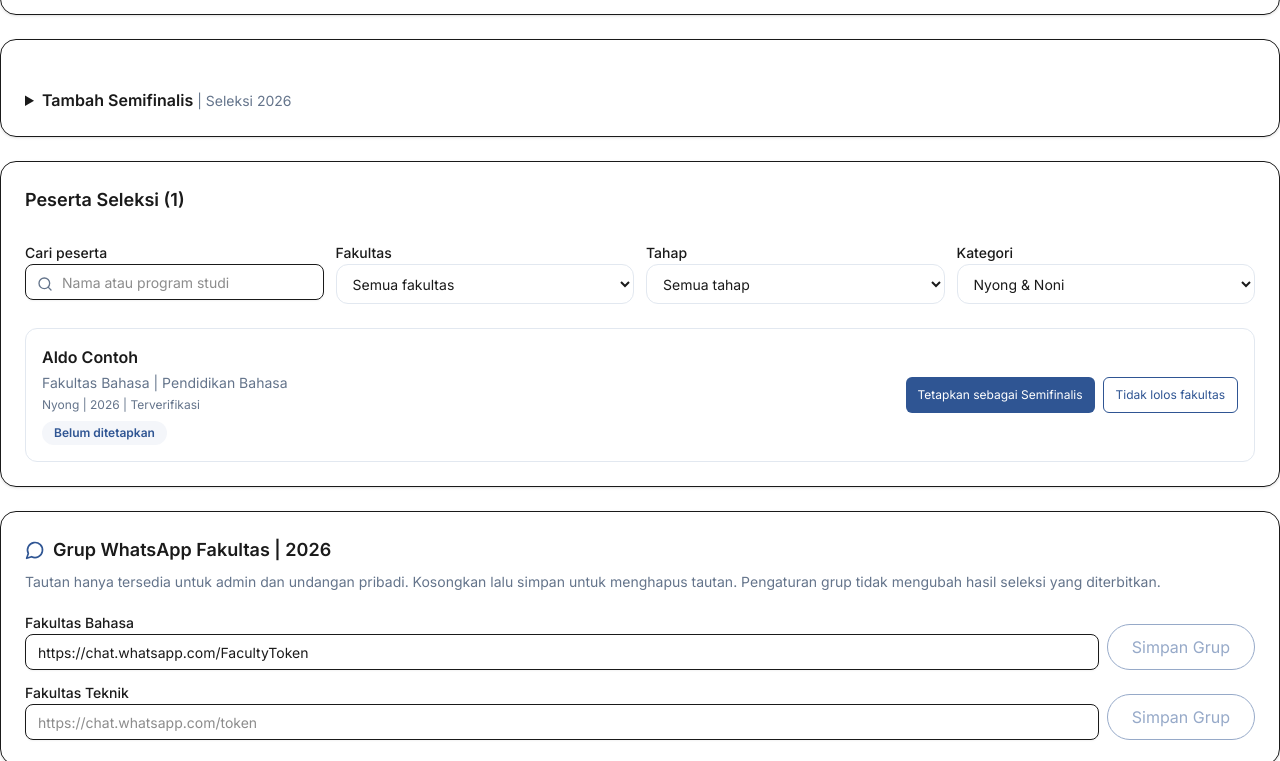
Test case: Selection admin › requires confirmation, saves stage, then offers a user-gesture WhatsApp link
(page scrolled)
Check: the button "Kirim Undangan WA" is not shown
Click the button "Tetapkan sebagai Semifinalis" at (1000, 395), box [906,377,1094,413]
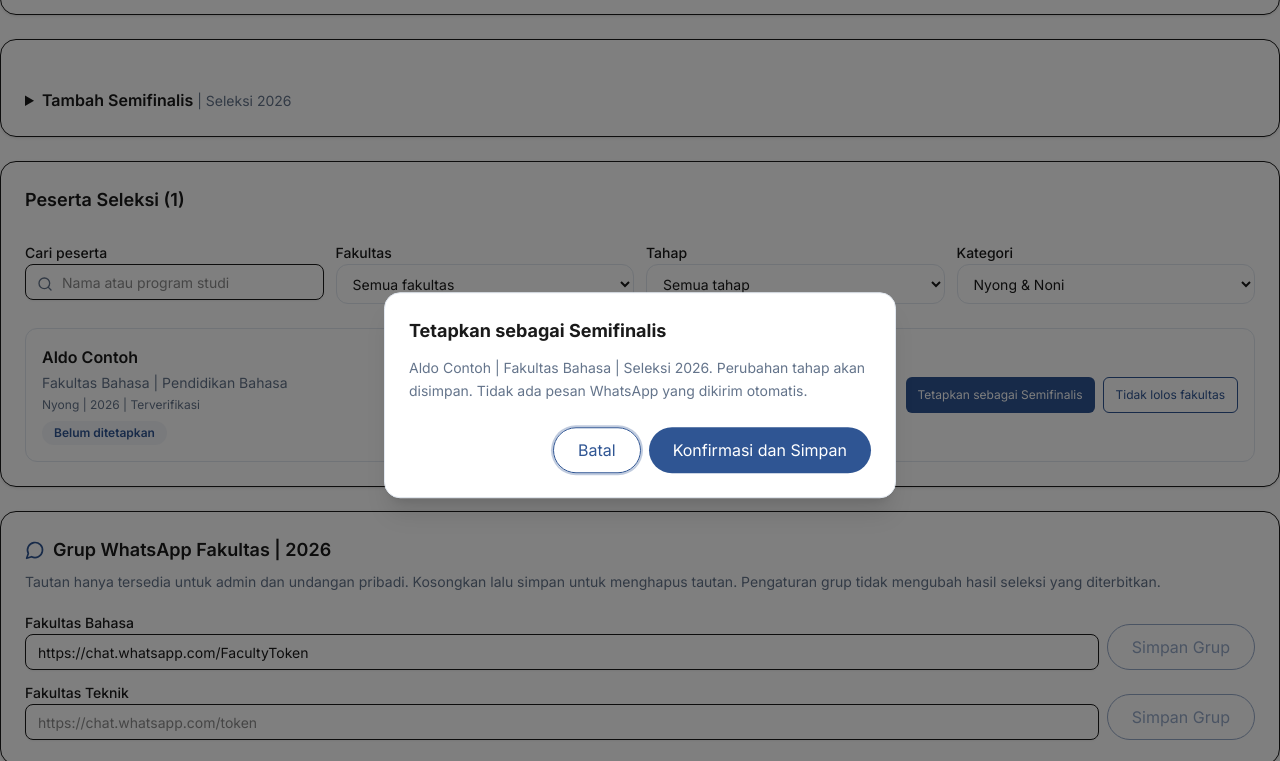
Click the button "Konfirmasi dan Simpan" at (760, 450), box [649,427,871,473]
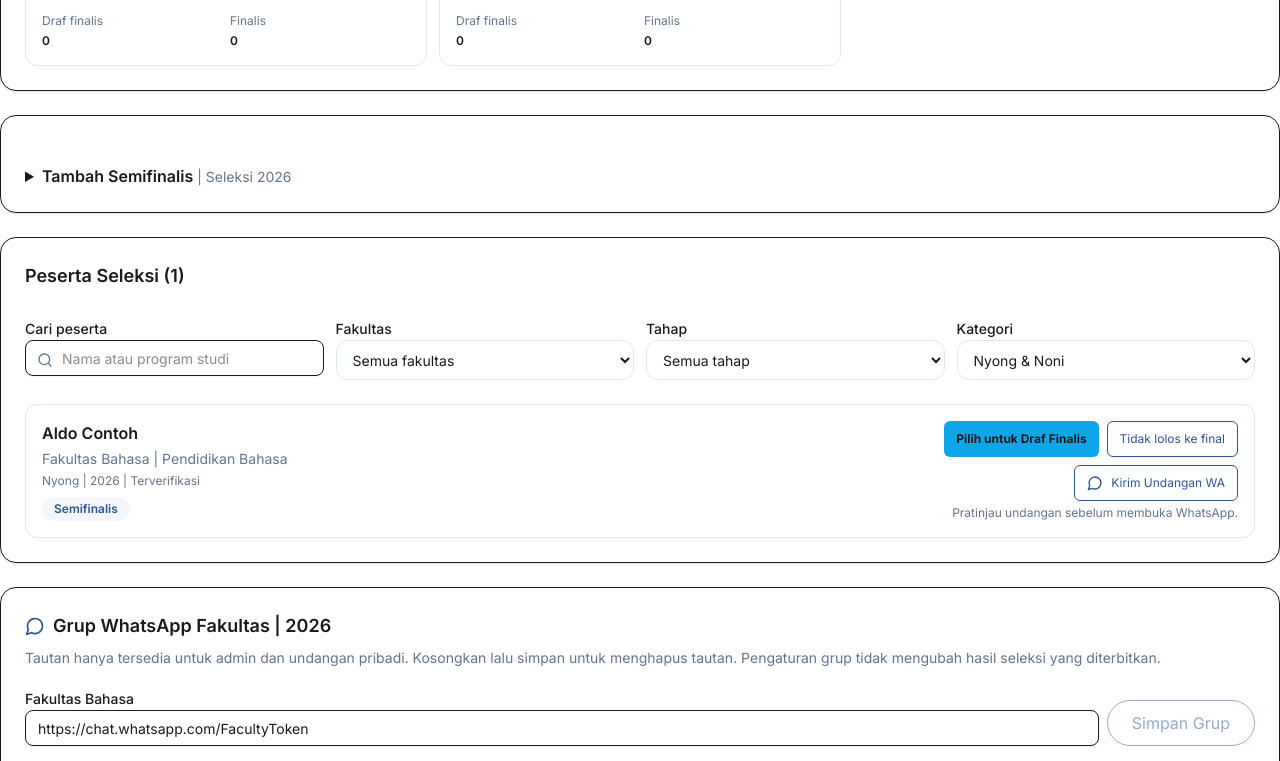
Check: the dialog is gone
Click the button "Kirim Undangan WA" at (1156, 483), box [1074,465,1238,501]
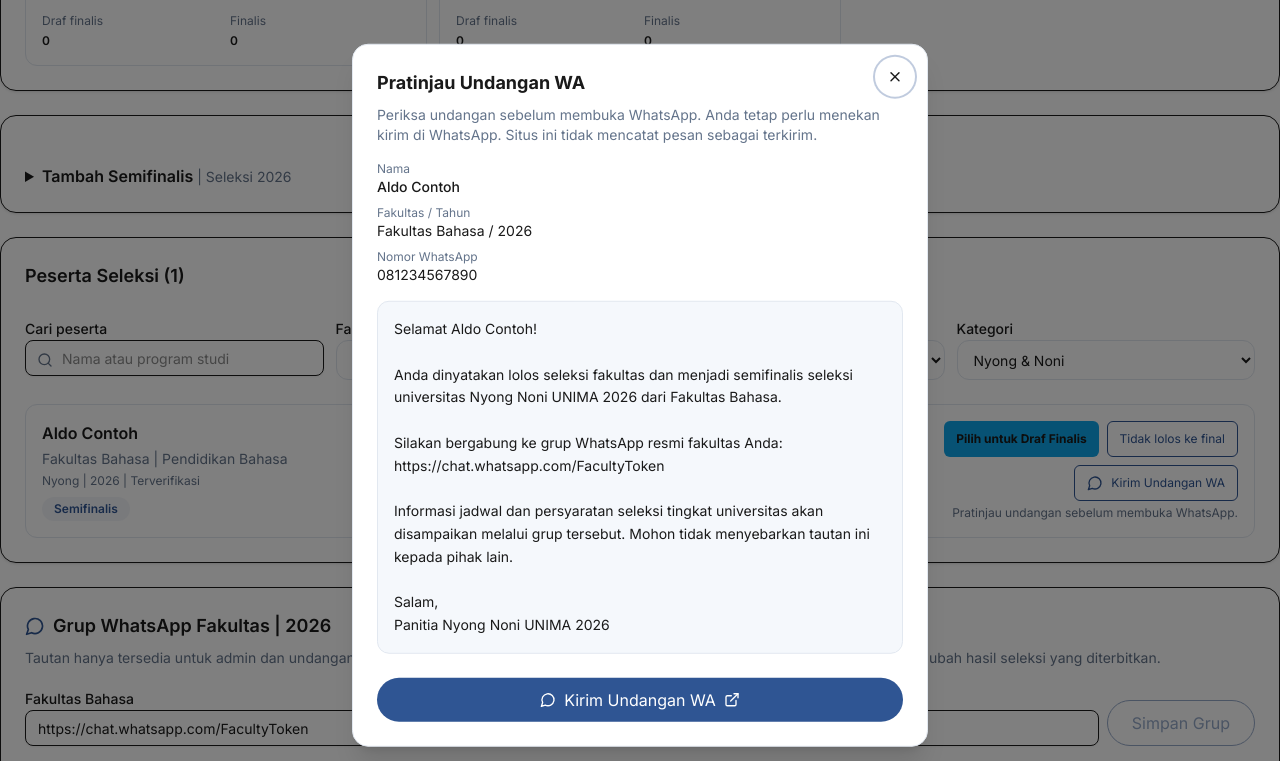
Check: the text "Aldo Contoh" is shown, box [42,423,138,443]
Check: the heading "Pratinjau Undangan WA" is shown, box [377,72,585,93]
